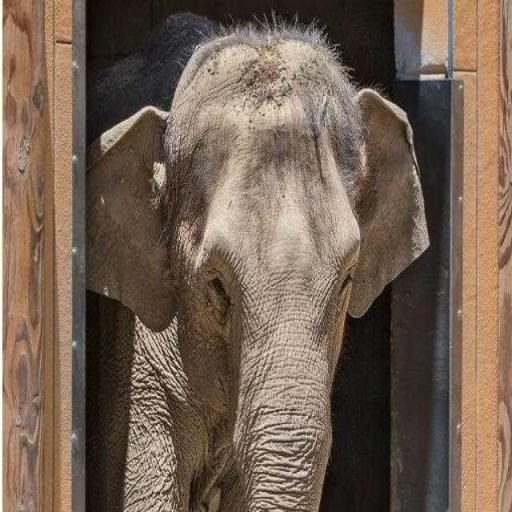Elephant: (84, 10, 430, 510)
